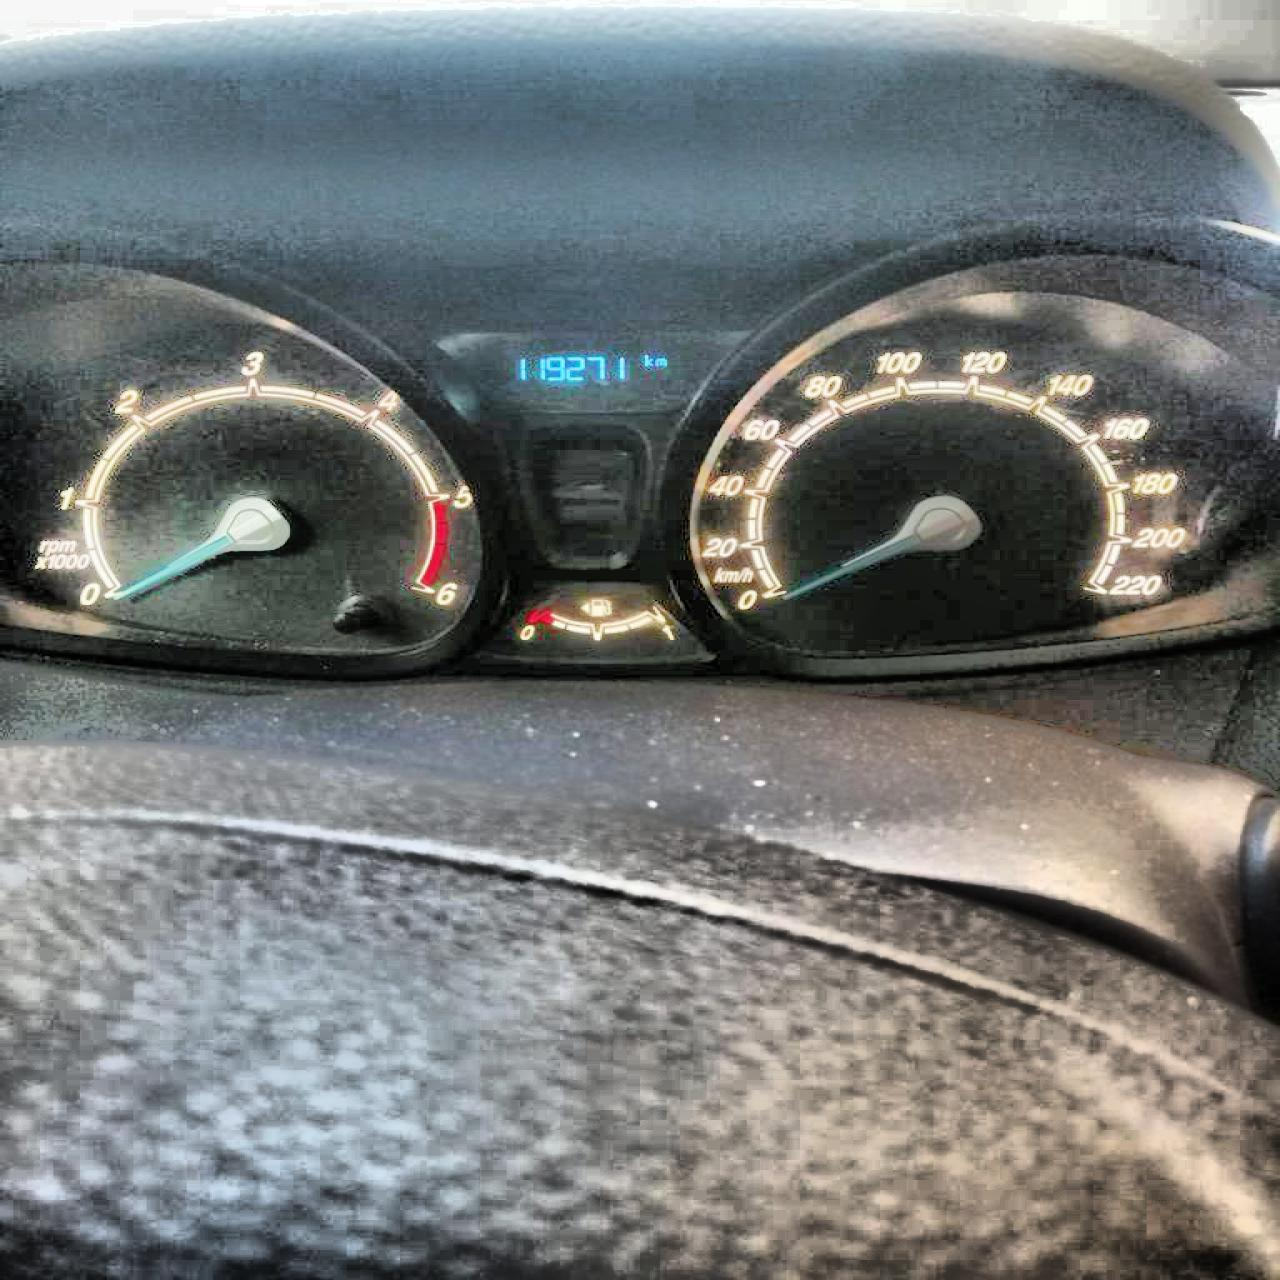1: (513, 355, 530, 381), (613, 354, 628, 380), (532, 356, 545, 381)
2: (565, 355, 585, 381)
7: (584, 354, 607, 380)
9: (545, 355, 565, 381)
X: (641, 352, 652, 368), (653, 355, 667, 367)
odometer: (438, 340, 723, 420)
